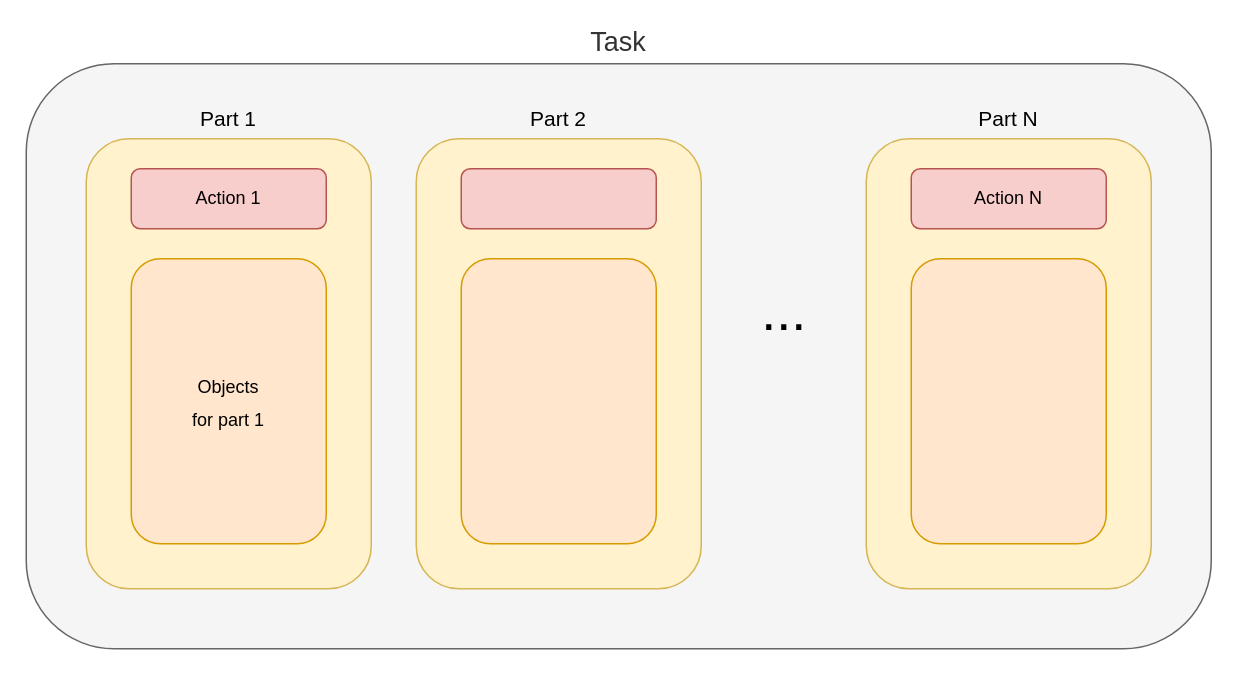
This 1238x675 diagram has some shape labels left out. Here are the shapes that lost their labels. From the top down, the box of each, then its label:
(460, 167, 656, 229): Action 2
(460, 257, 656, 544): Objects for part 2
(910, 257, 1106, 544): Objects for part N
